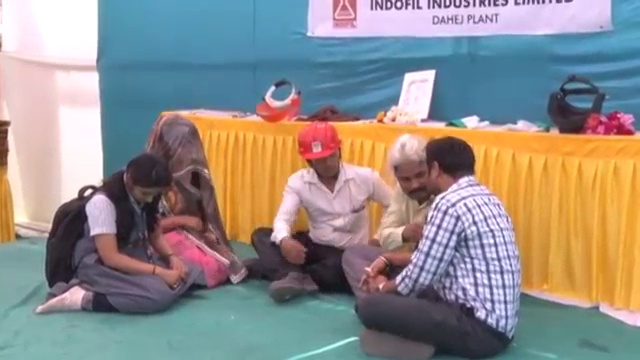helmet: (288, 126, 346, 161)
helmet_off: (147, 120, 208, 186), (419, 138, 479, 202), (114, 152, 177, 209), (388, 138, 432, 198)
helmet_on: (286, 125, 352, 188)
person: (349, 130, 522, 359), (237, 118, 410, 296), (36, 153, 199, 315), (144, 118, 246, 287), (341, 139, 435, 294)
